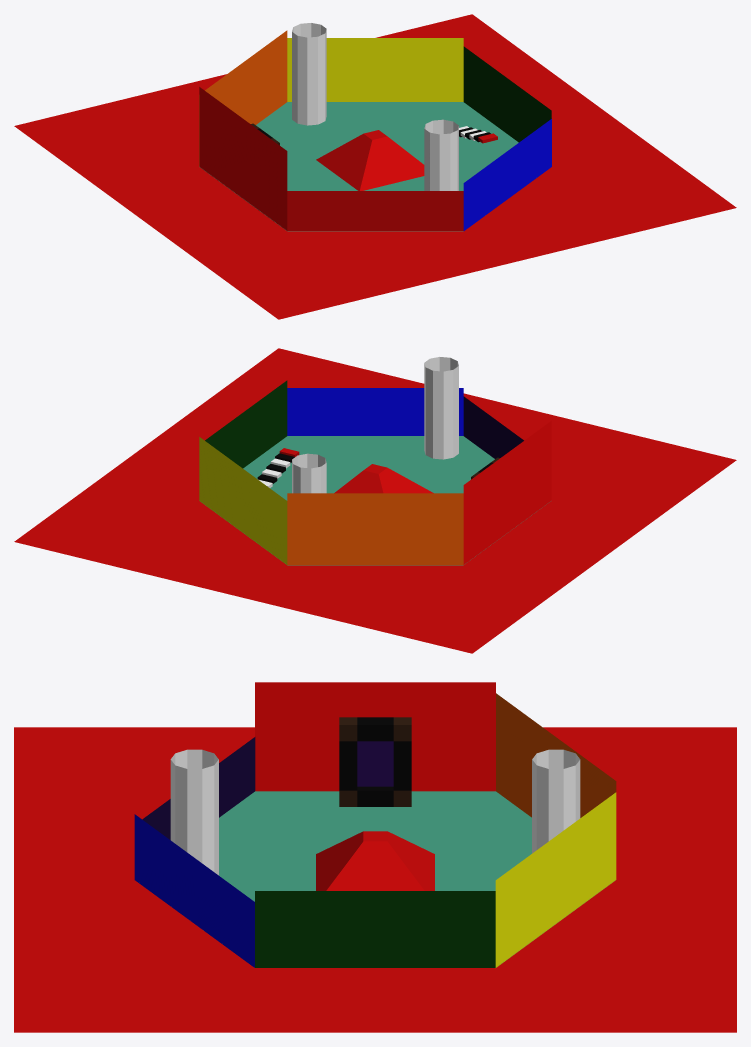
File: hexagon.obj
3 renders of one model, top to bottom at view 1: azimuth 30°, elevation 25°; view 2: azimuth 150°, elevation 25°; view 3: azimuth 270°, elevation 25°, orthographic. The views are drawn at different scales.
Parts seen in each view (by area): view 1: groundColPlane, visGround, wall2, wall0, wall5col, wall4, wall1, wall3, cenPyramidCol, postOne, postTwo; view 2: groundColPlane, wall1, visGround, wall0, wall4, wall2, wall3, postTwo, wall5, cenPyramidCol, postOne; view 3: groundColPlane, visGround, wall0, wall3, wall2, wall4, cenPyramidCol, wall1, postTwo, postOne, wall5, bortal (+4 smaller).
Boxes of the visible parts, x1,y1,x2,y2 form: groundColPlane: (14, 14, 736, 319); visGround: (200, 102, 518, 231); wall2: (287, 38, 463, 101); wall0: (199, 87, 287, 230); wall5col: (287, 191, 463, 230); wall4: (463, 119, 551, 230); wall1: (199, 30, 287, 166); wall3: (463, 46, 551, 142); cenPyramidCol: (316, 130, 424, 190); postOne: (292, 23, 326, 125); postTwo: (424, 119, 458, 190); groundColPlane: (14, 348, 736, 653); wall1: (287, 493, 463, 565); visGround: (205, 436, 550, 565); wall0: (463, 421, 551, 564); wall4: (287, 388, 463, 435); wall2: (199, 437, 287, 564); wall3: (205, 380, 287, 468); postTwo: (424, 357, 458, 459); wall5: (463, 396, 523, 458); cenPyramidCol: (334, 464, 433, 493); postOne: (292, 453, 326, 493); groundColPlane: (14, 727, 736, 1032); visGround: (219, 791, 610, 967); wall0: (255, 682, 495, 791); wall3: (255, 891, 495, 967); wall2: (495, 792, 616, 967); wall4: (134, 814, 254, 967); cenPyramidCol: (316, 831, 434, 890); wall1: (496, 693, 616, 817); postTwo: (170, 749, 218, 875); postOne: (532, 749, 580, 853); wall5: (142, 737, 255, 839); bortal: (357, 741, 393, 786).
Size of the model in its own units: 120 by 24 by 120.
